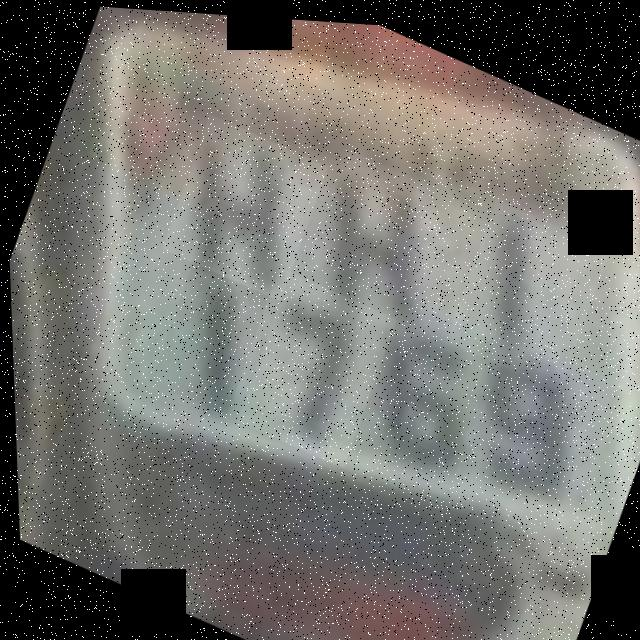1: (144, 258, 281, 421)
6: (335, 290, 504, 491)
7: (218, 260, 399, 467)
9: (435, 312, 612, 517)
H: (156, 109, 331, 300), (291, 141, 456, 332)
J: (439, 189, 613, 387)
